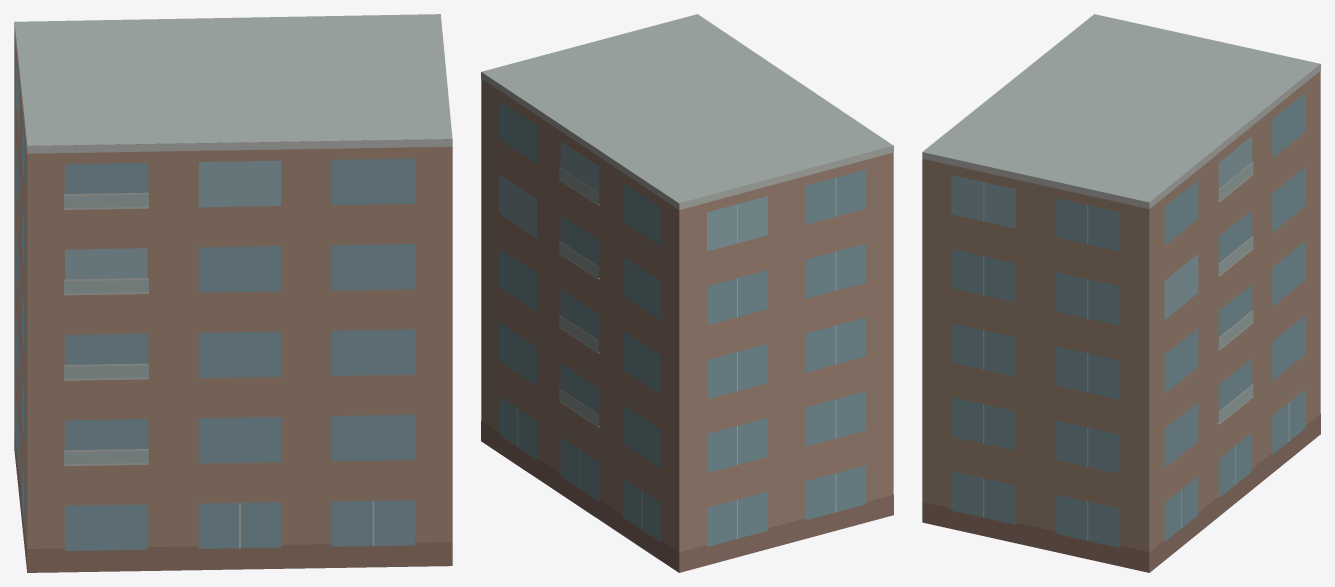
File: survey-upis-32892558.glb
The picture shows the model from 3 angles, left to right: view 1: azimuth 30°, elevation 25°; view 2: azimuth 150°, elevation 25°; view 3: azimuth 270°, elevation 25°; orthographic projection. The views are drawn at different scales.
Visible parts, largest first — view 1: survey-upis-32892558.tmp; view 2: survey-upis-32892558.tmp; view 3: survey-upis-32892558.tmp.
Boxes of the visible parts, x1,y1,x2,y2 form: survey-upis-32892558.tmp: (14,14,452,572); survey-upis-32892558.tmp: (481,14,893,572); survey-upis-32892558.tmp: (922,14,1320,572).
Bounding box in the file's own units: 14.69 × 13.45 × 13.12.
